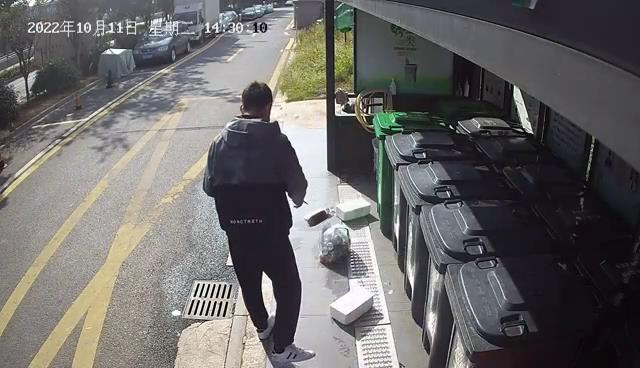person: (201, 79, 318, 362)
suliaozhipin: (319, 223, 352, 269)
zhizhipin: (328, 285, 375, 325), (336, 197, 371, 222)
